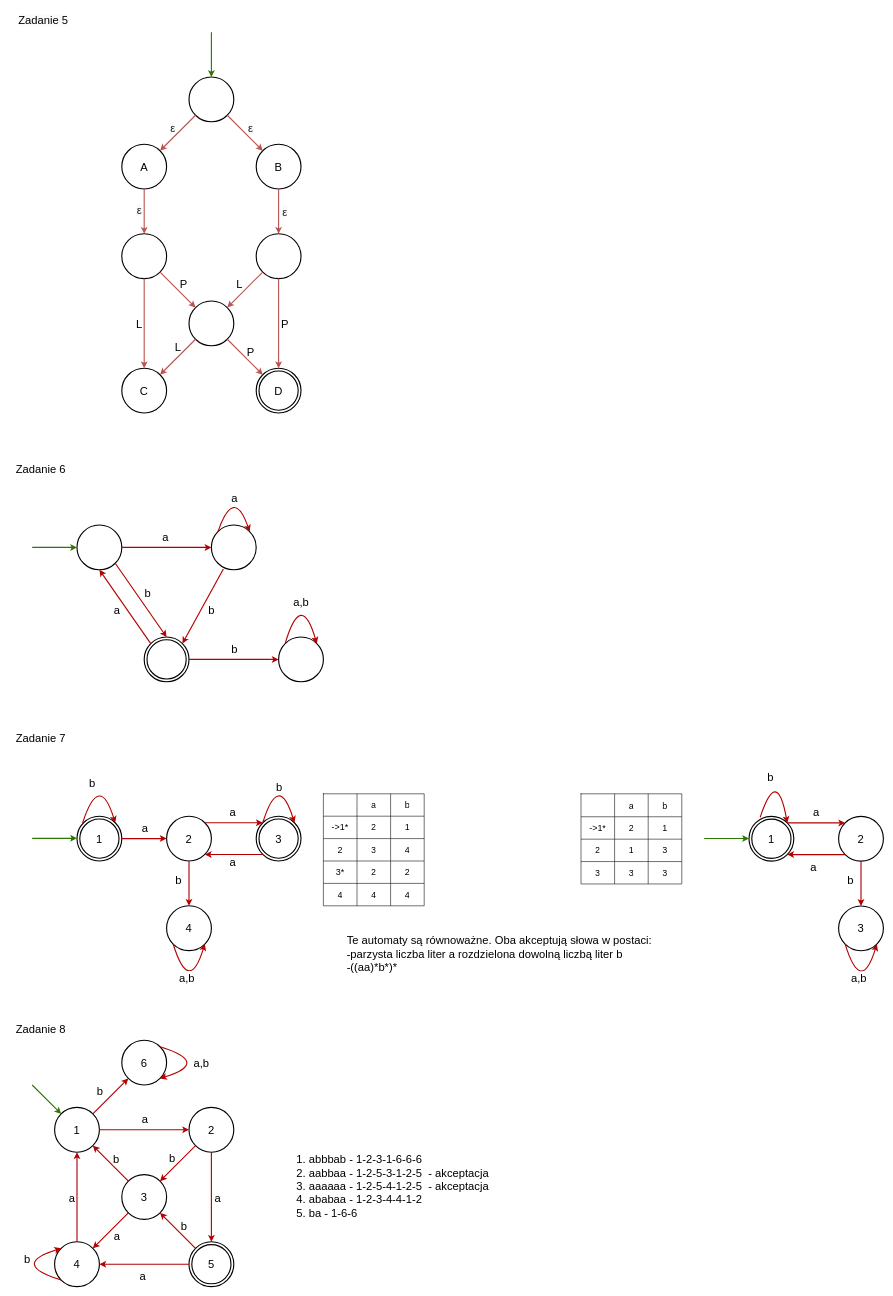
Image size: 893x1296. Some labels were removed from this diagram. Each missing label, with the box of its shape:
START: (188, 76, 234, 122)
X 1: (121, 233, 167, 279)
X 2: (255, 233, 301, 279)
X 3: (188, 300, 234, 346)
